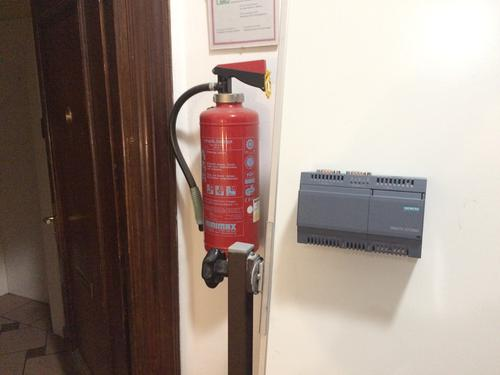iot2000: (296, 169, 428, 260)
